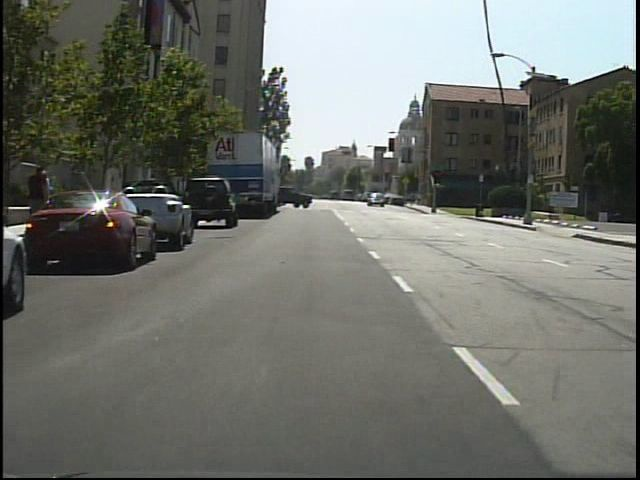person: (25, 162, 55, 240), (32, 168, 60, 226)
